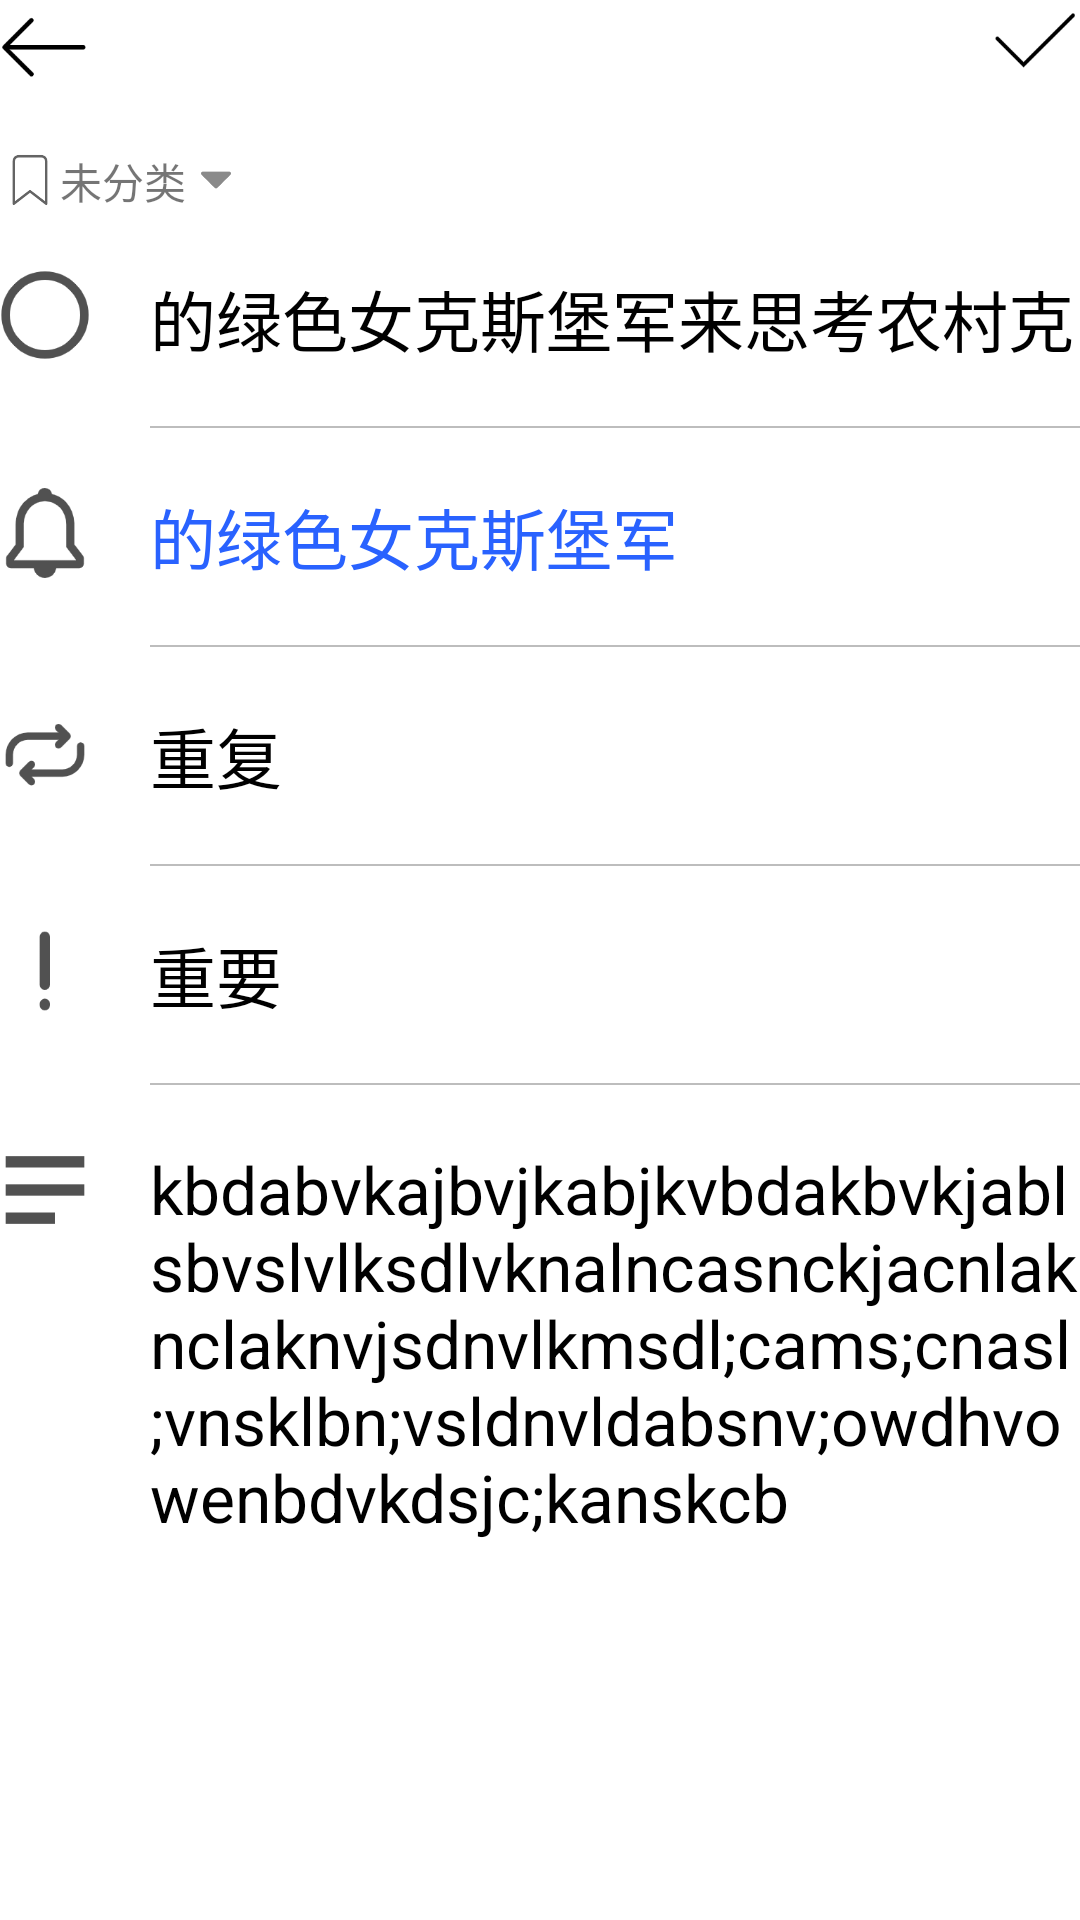

Icons on this 1080px x 1920px Android screen, each with the point to tap as (x,y):
back arrow: (44,47)
down: (216,180)
list: (45,1190)
notice: (45,533)
repeat: (45,755)
tag empty: (30,180)
todo: (45,315)
